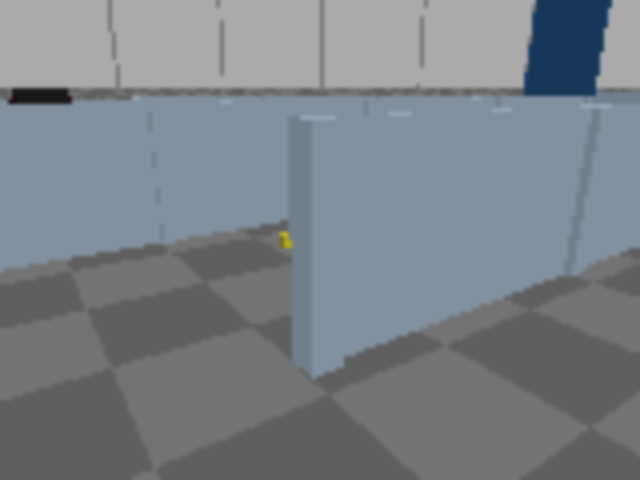person: (629, 0, 638, 178)
puck: (281, 231, 299, 249)
